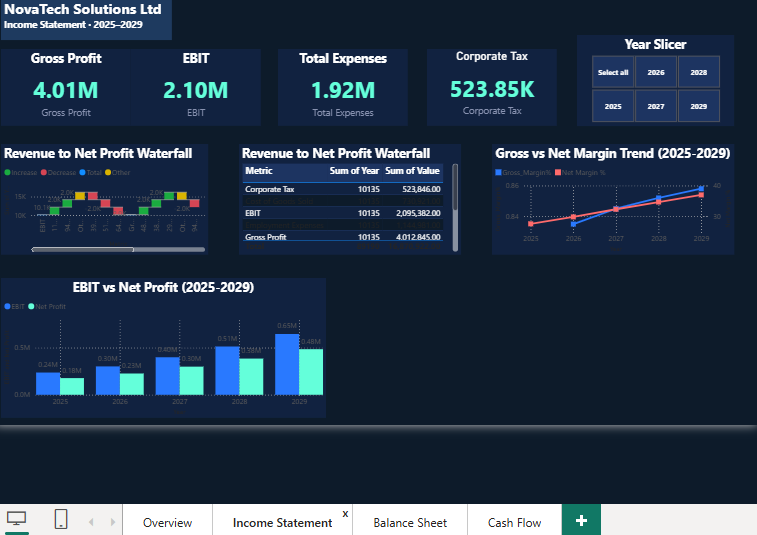

Layout of this report page (visuals, bound fields, positions):
{"tool":"powerbi","page":{"name":"Income Statement","canvas":[1280,720],"ordinal":1},"visuals":[{"type":"textbox","box":[10.1,0,287.2,73.9],"z":0},{"type":"card","title":"Gross Profit","fields":{"Values":["NovaTech Solutions Ltd  (FinancialData).Gross Profit"]},"box":[10.1,89,200,111],"z":1000},{"type":"card","title":"EBIT","fields":{"Values":["NovaTech Solutions Ltd  (FinancialData).EBIT"]},"box":[210,88.3,200,111.7],"z":2000},{"type":"card","title":"Total Expenses","fields":{"Values":["NovaTech Solutions Ltd  (FinancialData).Total Expenses"]},"box":[410,85,200,111.7],"z":3000},{"type":"card","title":"Corporate Tax","fields":{"Values":["NovaTech Solutions Ltd  (FinancialData).Corporate Tax"]},"box":[631.7,85,200,111.7],"z":4000},{"type":"slicer","title":"Year Slicer","fields":{"Values":["NovaTech Solutions Ltd  (FinancialData).Year"]},"box":[873.3,50,376.7,178.3],"z":5000},{"type":"waterfallChart","title":"Revenue to Net Profit Waterfall","fields":{"Category":["NovaTech Solutions Ltd  (FinancialData).Metric"],"Breakdown":["NovaTech Solutions Ltd  (FinancialData).Value"],"Y":["Sum(NovaTech Solutions Ltd  (FinancialData).Year)"]},"box":[10.1,248.6,347.7,186.5],"z":6000},{"type":"tableEx","title":"Revenue Breakdown Waterfall (2025-2029)","fields":{"Values":["NovaTech Solutions Ltd  (FinancialData).Metric","Sum(NovaTech Solutions Ltd  (FinancialData).Year)","Sum(NovaTech Solutions Ltd  (FinancialData).Value)"]},"box":[410,248.3,441.7,186.7],"z":7000},{"type":"lineChart","title":"Gross vs Net Margin Trend (2025-2029)","fields":{"Category":["NovaTech Solutions Ltd  (FinancialData).Year"],"Y":["NovaTech Solutions Ltd  (FinancialData).Gross_Margin_Percentage"],"Y2":["NovaTech Solutions Ltd  (FinancialData).Net Margin %"]},"box":[873.3,248.3,406.7,186.7],"z":8000},{"type":"clusteredColumnChart","title":"EBIT vs Net Profit (2025-2029)","fields":{"Category":["NovaTech Solutions Ltd  (FinancialData).Year"],"Y":["NovaTech Solutions Ltd  (FinancialData).EBIT","NovaTech Solutions Ltd  (FinancialData).Net Profit"]},"box":[10.1,473.7,545.9,235.2],"z":9000}]}

Visuals, with their boxes on the page's 1280x720 design canvas (x1, y1, x2, y2). These are canvas units, not pixel positions in the 757x535 screenshot, which may show the page scaled, cropped or inside an application window:
textbox: bbox(10, 0, 297, 74)
"Gross Profit" card: bbox(10, 89, 210, 200)
"EBIT" card: bbox(210, 88, 410, 200)
"Total Expenses" card: bbox(410, 85, 610, 197)
"Corporate Tax" card: bbox(632, 85, 832, 197)
"Year Slicer" slicer: bbox(873, 50, 1250, 228)
"Revenue to Net Profit Waterfall" waterfallChart: bbox(10, 249, 358, 435)
"Revenue Breakdown Waterfall (2025-2029)" tableEx: bbox(410, 248, 852, 435)
"Gross vs Net Margin Trend (2025-2029)" lineChart: bbox(873, 248, 1280, 435)
"EBIT vs Net Profit (2025-2029)" clusteredColumnChart: bbox(10, 474, 556, 709)
